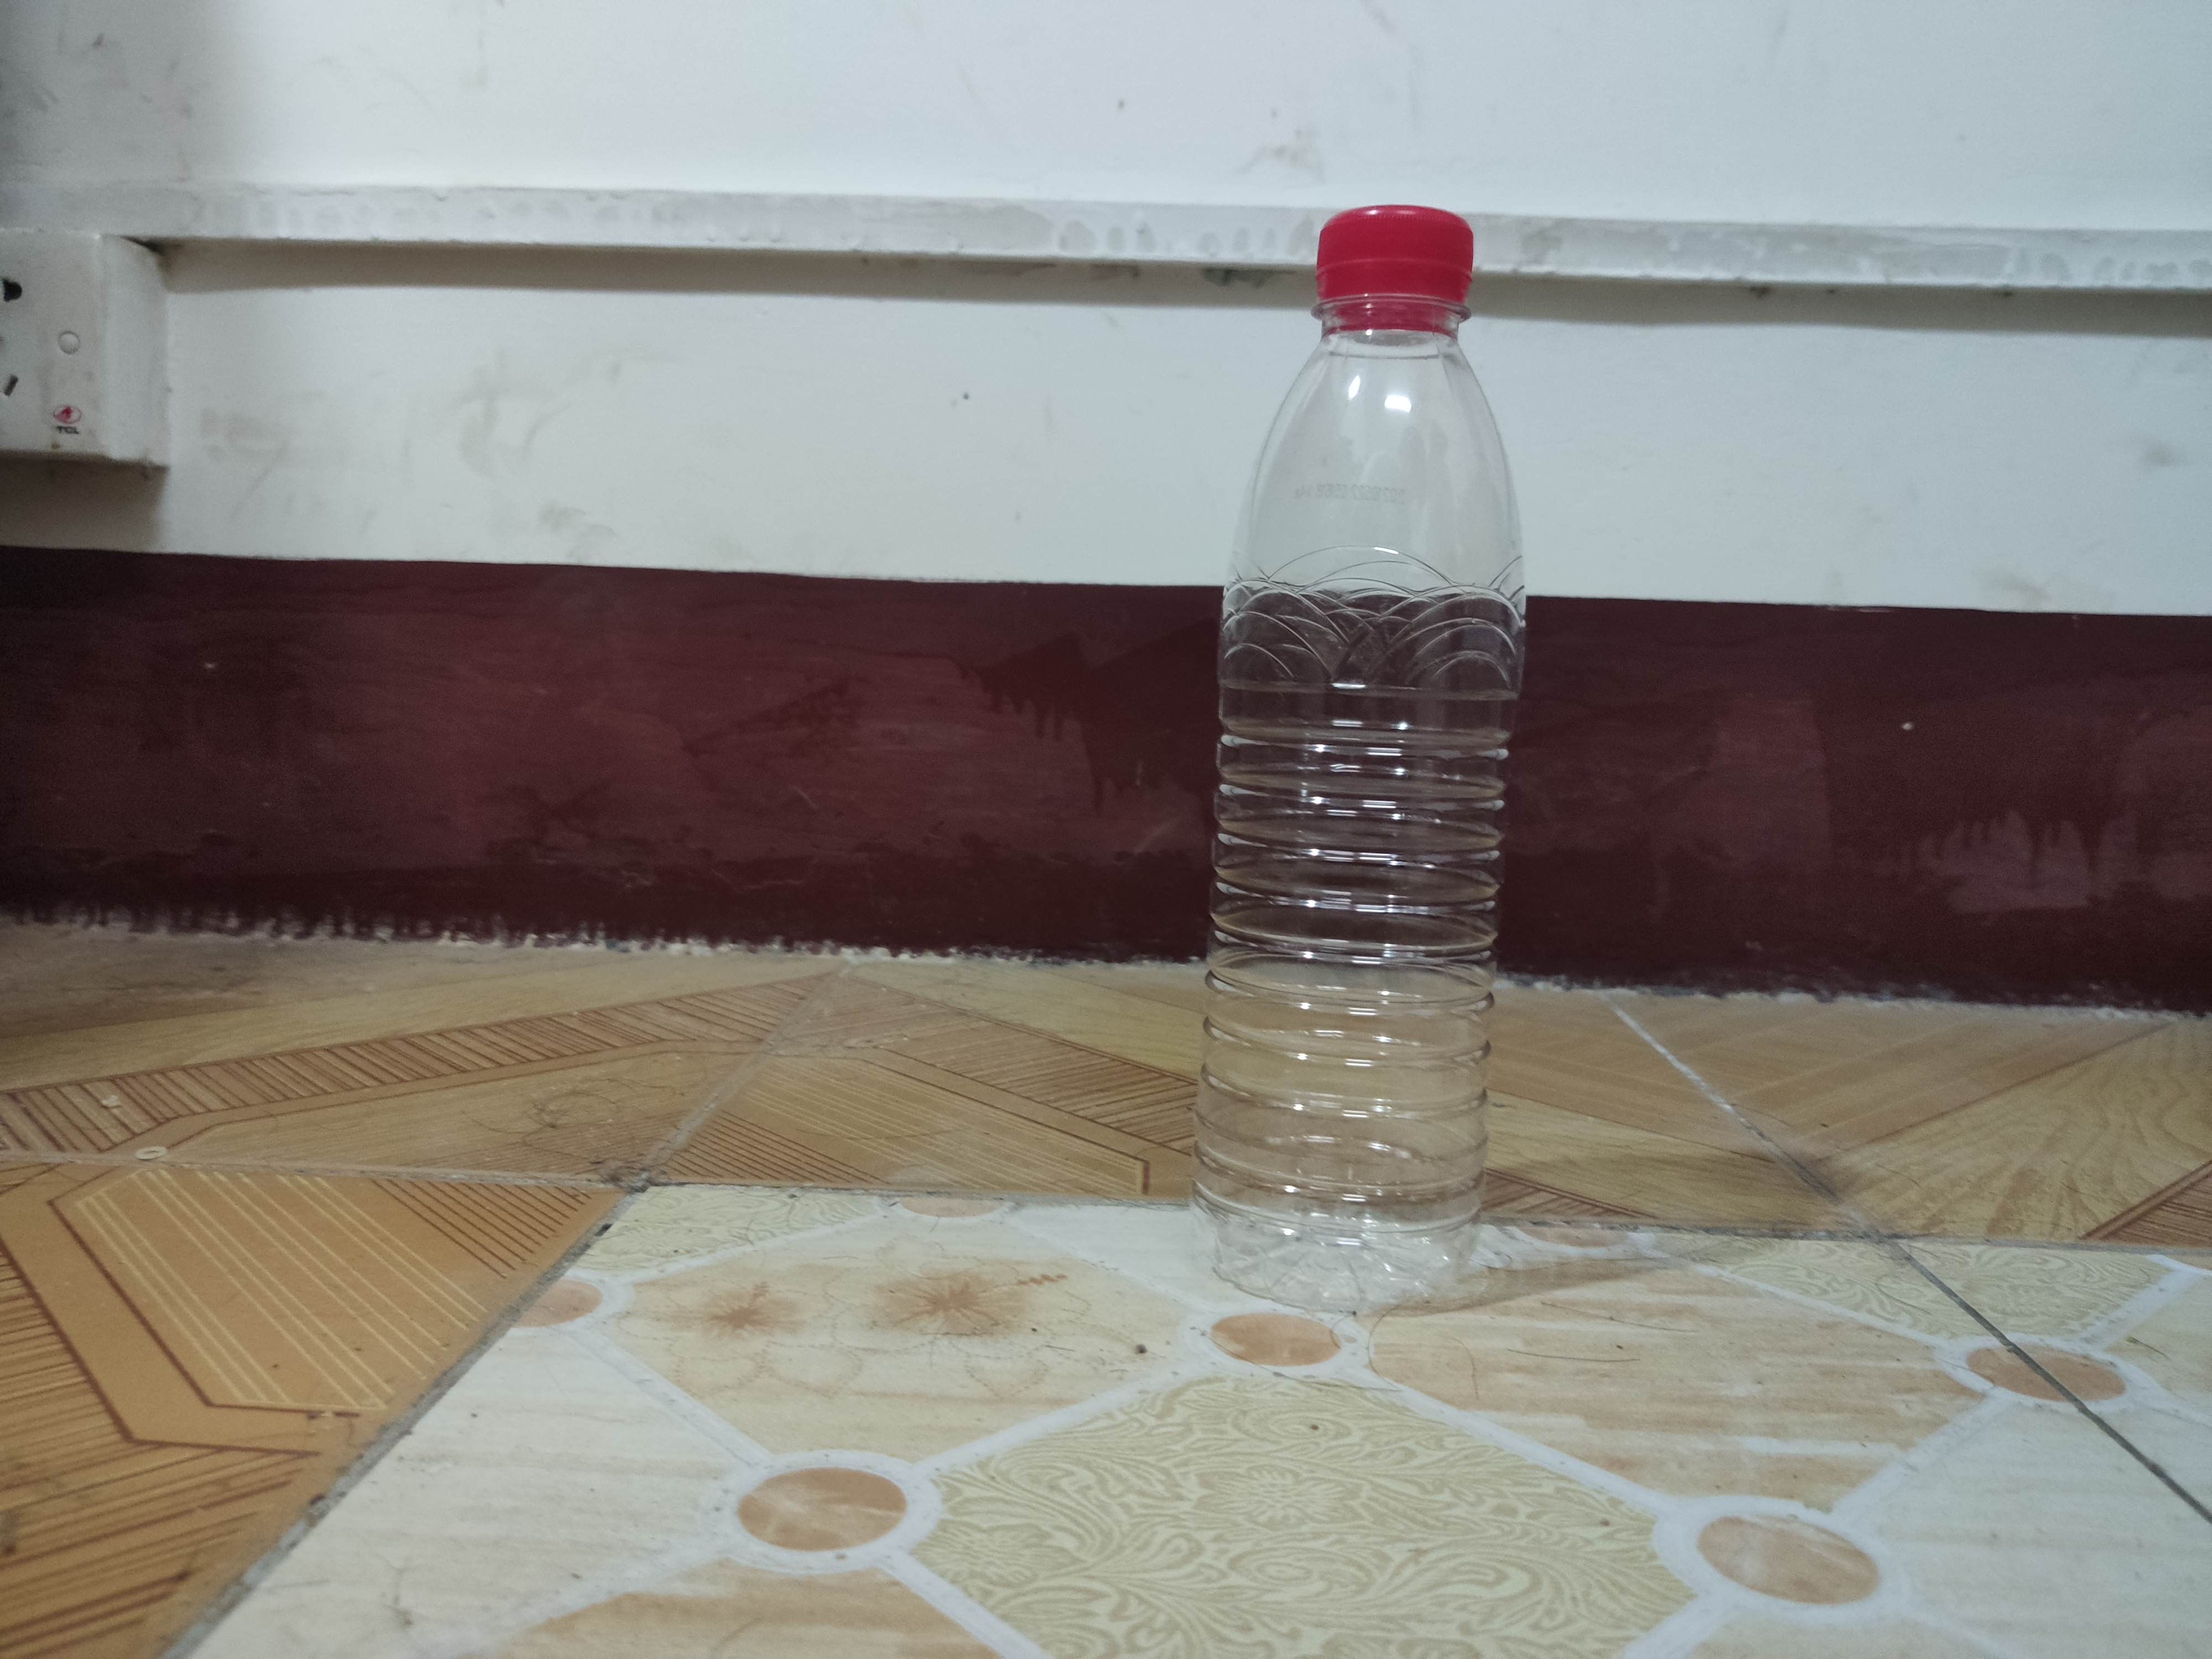Plastic Bottle: (1181, 202, 1529, 1316)
